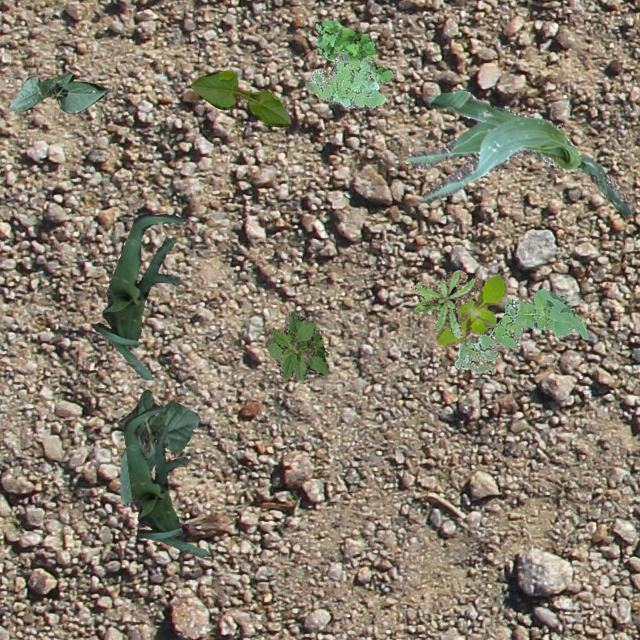crop: (406, 90, 632, 216), (92, 212, 182, 378), (122, 404, 208, 556), (119, 390, 200, 504), (190, 70, 290, 126), (7, 72, 106, 112)
weed: (452, 288, 586, 372), (434, 274, 506, 346), (314, 18, 394, 82), (412, 268, 481, 338), (304, 51, 386, 108), (264, 310, 328, 380)
